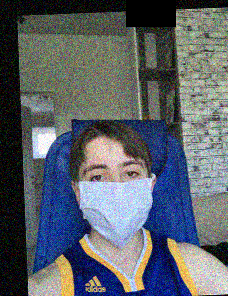with_mask: (76, 158, 153, 249)
